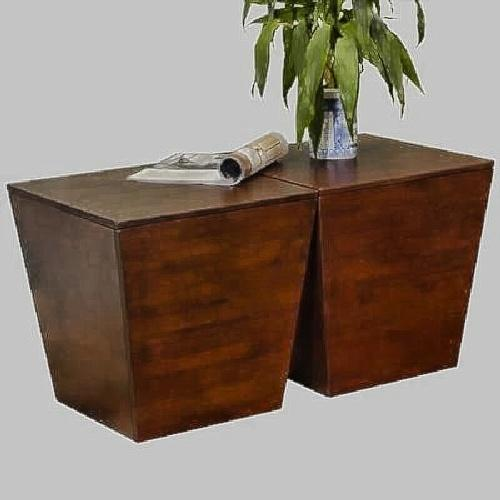table: (40, 144, 475, 425)
